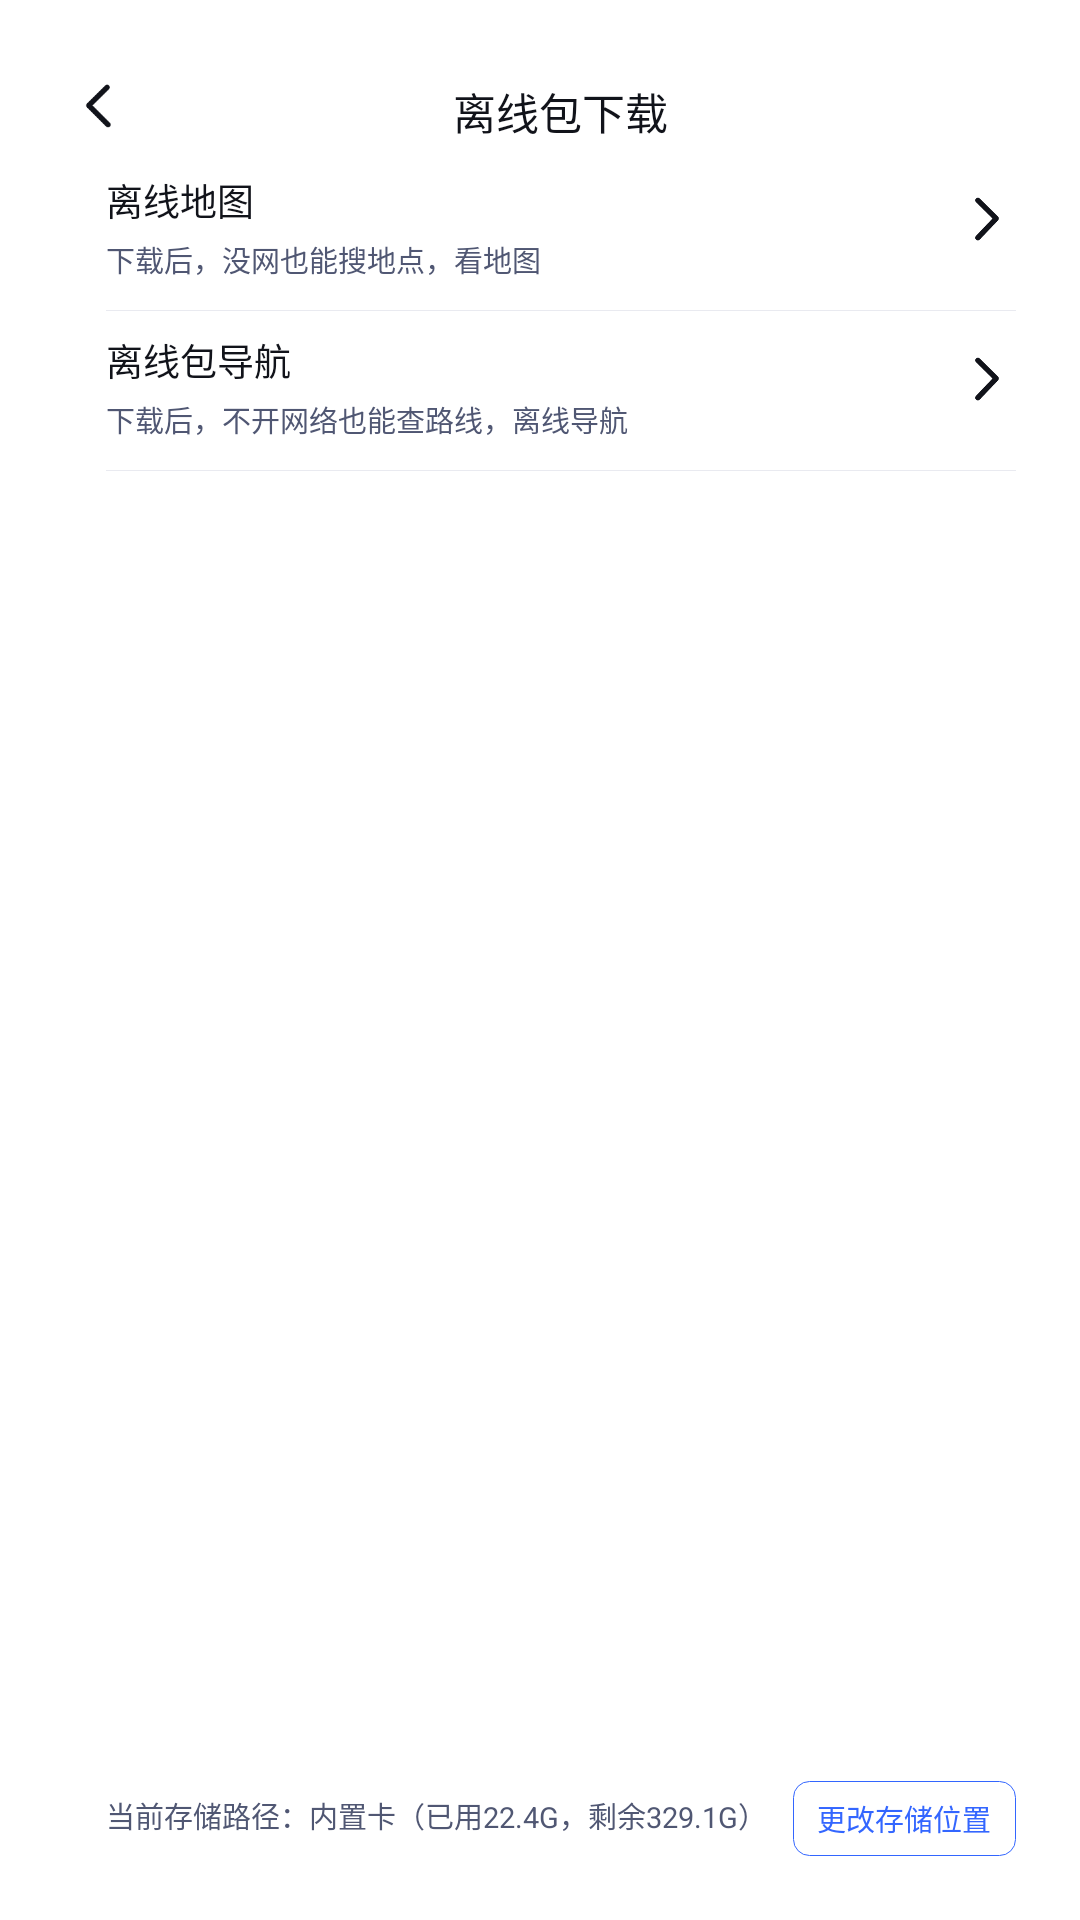

Where icons sit on this 1080×1920 app screen, as [x1=x1, y1=y1, x2=x2, y2=y2]:
back: [x1=86, y1=84, x2=111, y2=128]
open: [x1=975, y1=197, x2=999, y2=241], [x1=975, y1=357, x2=999, y2=401]
